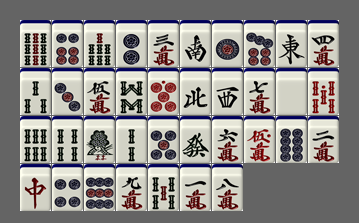0m: (244, 116, 275, 163)
0p: (148, 68, 179, 115)
0s: (308, 68, 339, 115)
1m: (180, 164, 211, 211)
1p: (212, 20, 243, 67)
1s: (84, 116, 115, 163)
1z: (276, 20, 307, 67)
2m: (308, 116, 339, 163)
2p: (116, 20, 147, 67)
2s: (116, 116, 147, 163)
2z: (180, 20, 211, 67)
3m: (148, 20, 179, 67)
3p: (52, 68, 83, 115)
3s: (20, 68, 51, 115)
3z: (212, 68, 243, 115)
4m: (308, 20, 339, 67)
4p: (52, 164, 83, 211)
4s: (52, 116, 83, 163)
4z: (180, 68, 211, 115)
5m: (84, 68, 115, 115)
5p: (148, 116, 179, 163)
5s: (148, 164, 179, 211)
5z: (276, 68, 307, 115)
6m: (212, 116, 243, 163)
6p: (52, 20, 83, 67)
6s: (20, 116, 51, 163)
6z: (180, 116, 211, 163)
7m: (244, 68, 275, 115)
7p: (244, 20, 275, 67)
7s: (84, 20, 115, 67)
7z: (20, 164, 51, 211)
8m: (212, 164, 243, 211)
8p: (276, 116, 307, 163)
8s: (116, 68, 147, 115)
9m: (116, 164, 147, 211)
9p: (84, 164, 115, 211)
9s: (20, 20, 51, 67)
